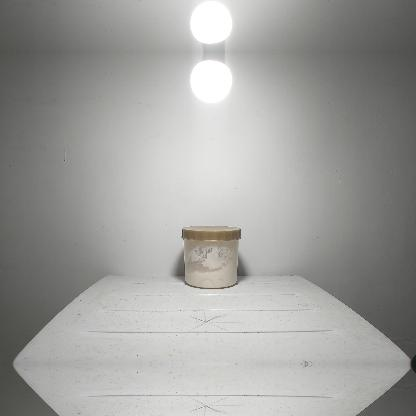Lady-s-Choice: (181, 226, 240, 288)
